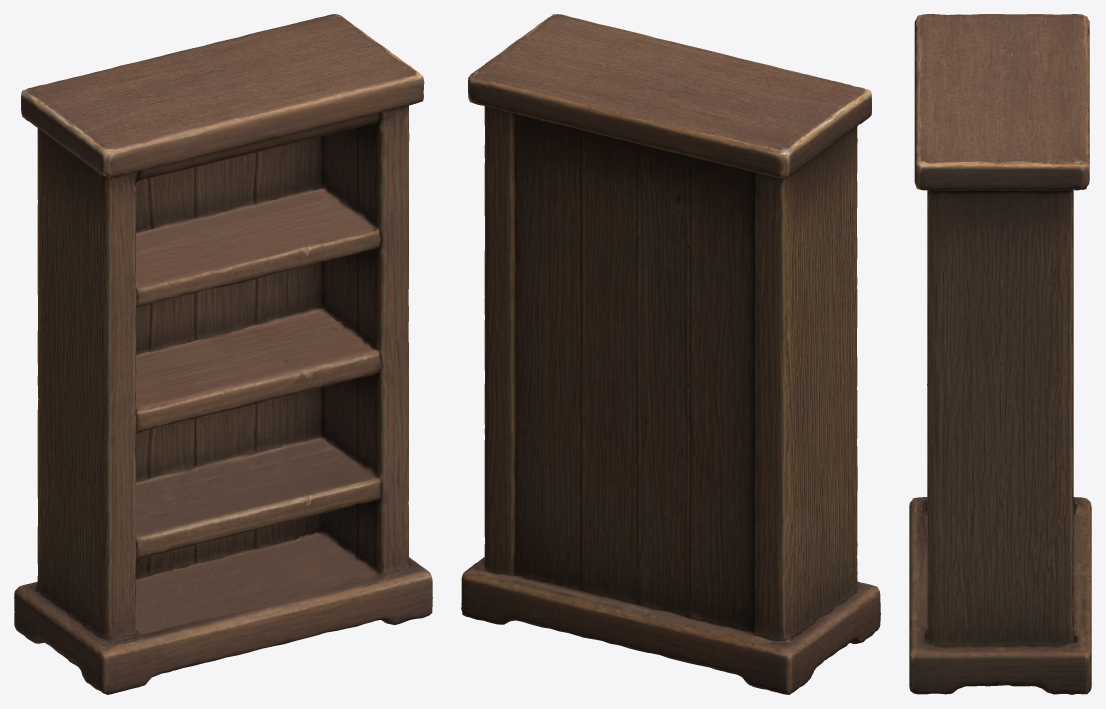
The model's file is Furn_Bookcase.fbx.
The picture shows the model from 3 angles, left to right: view 1: azimuth 30°, elevation 25°; view 2: azimuth 150°, elevation 25°; view 3: azimuth 270°, elevation 25°; orthographic projection. The views are drawn at different scales.
Visible parts, largest first — view 1: texture_mapping; view 2: texture_mapping; view 3: texture_mapping.
Part boxes in pixels (box(x1,y1,x2,y2)): texture_mapping: box(14, 14, 432, 694); texture_mapping: box(461, 14, 880, 694); texture_mapping: box(909, 14, 1091, 694).
Bounding box in the file's own units: 0.6404 × 0.3123 × 1.
Materials: 1 (1 with a texture image).
